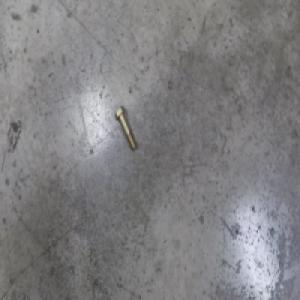Bolt: (117, 106, 139, 152)
